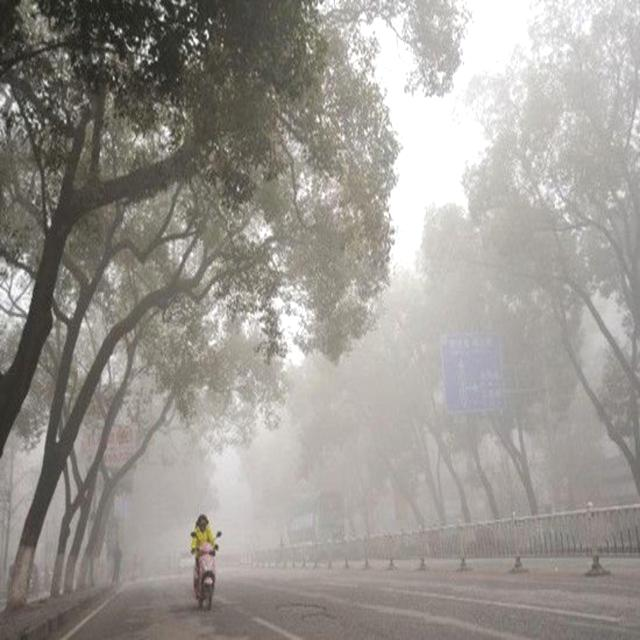Cycle: (190, 510, 221, 618)
